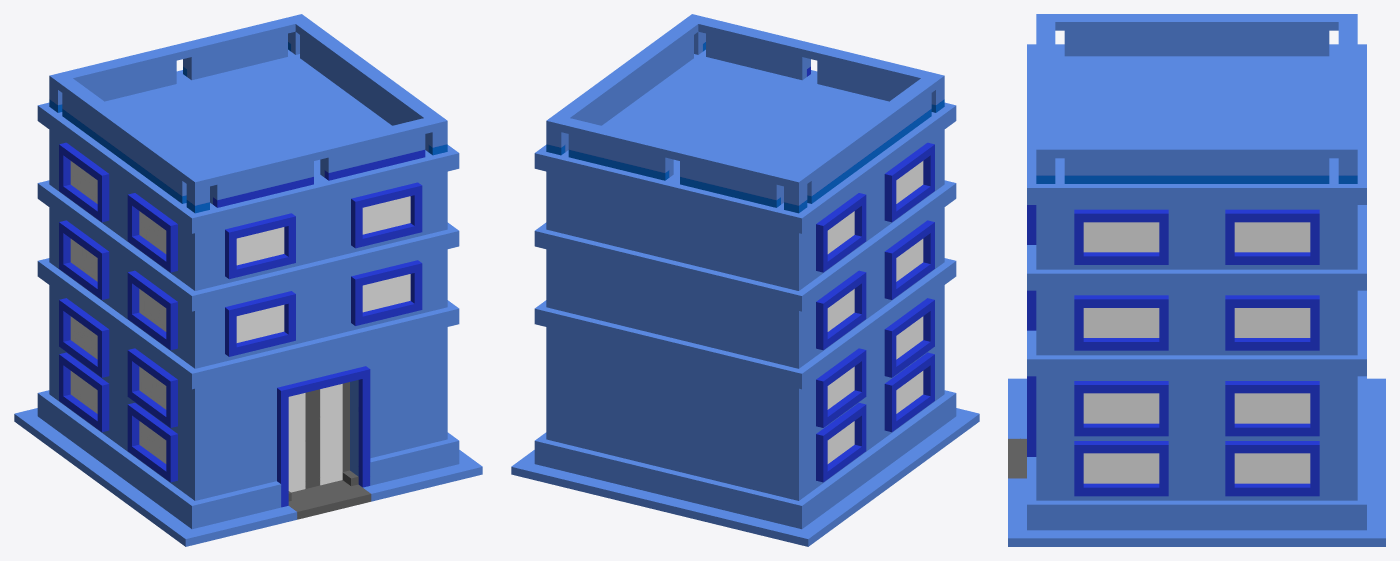
The model's file is Building_4.fbx.
3 views of the same model, side by side, from view 1: azimuth 30°, elevation 25°; view 2: azimuth 150°, elevation 25°; view 3: azimuth 270°, elevation 25° (orthographic). The views are drawn at different scales.
Parts seen in each view (by area): view 1: Building_4; view 2: Building_4; view 3: Building_4.
Boxes of the visible parts, box(x1,y1,x2,y2) form: Building_4: box(14, 14, 482, 546); Building_4: box(511, 14, 979, 546); Building_4: box(1008, 14, 1385, 546).
Size of the model in its own units: 40 by 45 by 40.
Materials: 1 (1 with a texture image).
